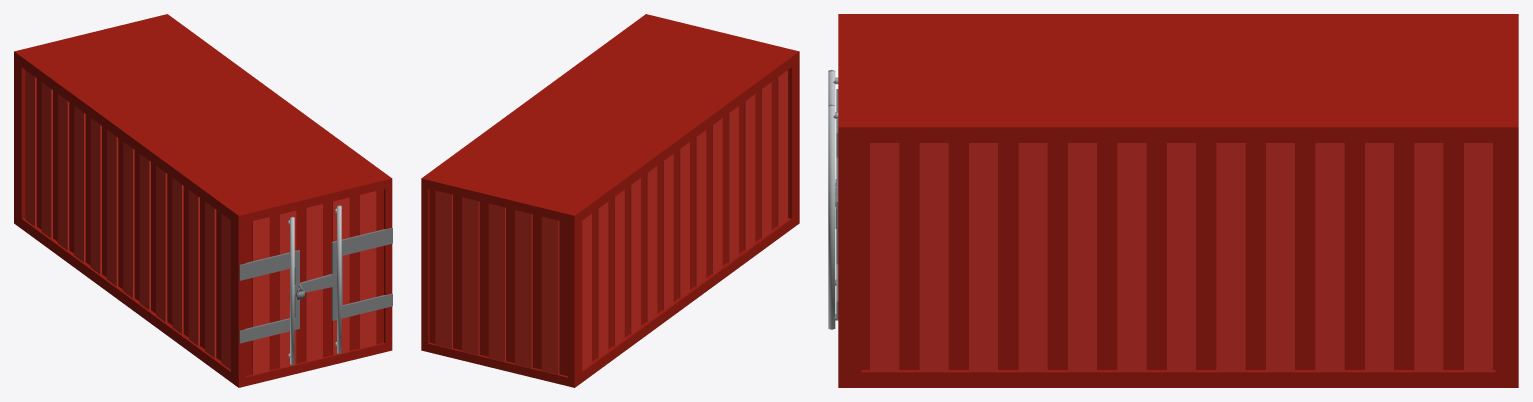
Rendered from obstacle.fbx.
3 views of the same model, side by side, from view 1: azimuth 30°, elevation 25°; view 2: azimuth 150°, elevation 25°; view 3: azimuth 270°, elevation 25° (orthographic). The views are drawn at different scales.
Visible parts, largest first — view 1: Cube.004; view 2: Cube.004; view 3: Cube.004.
Boxes of the visible parts, bbox=[...] form: Cube.004: bbox=[14, 14, 392, 387]; Cube.004: bbox=[421, 14, 799, 387]; Cube.004: bbox=[828, 14, 1518, 387].
Size of the model in its own units: 420 by 452 by 1080.
